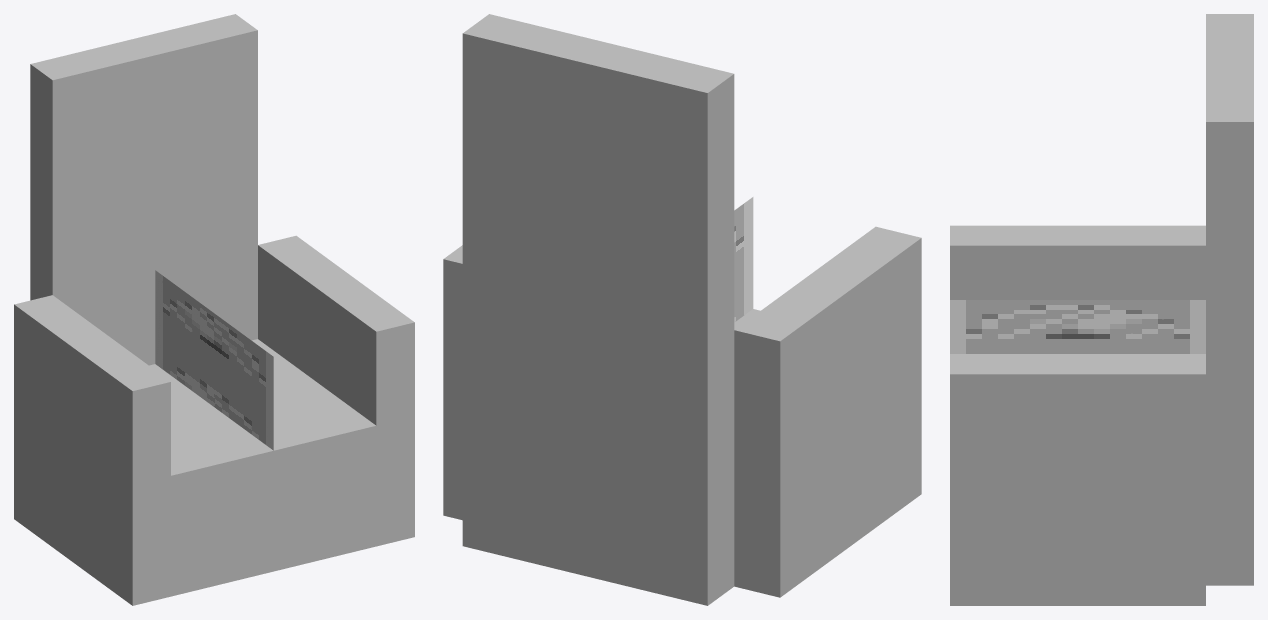
The model's file is minecraft-roulette_toilet-legacy.fbx.
3 renders of one model, left to right at view 1: azimuth 30°, elevation 25°; view 2: azimuth 150°, elevation 25°; view 3: azimuth 270°, elevation 25°, orthographic. The views are drawn at different scales.
Parts seen in each view (by area): view 1: minecraft_toilet; view 2: minecraft_toilet; view 3: minecraft_toilet.
Part boxes in pixels (box(x1,y1,x2,y2)): minecraft_toilet: box(14, 14, 414, 605); minecraft_toilet: box(443, 14, 921, 605); minecraft_toilet: box(950, 14, 1253, 605).
Bounding box in the file's own units: 138 × 200 × 119.
